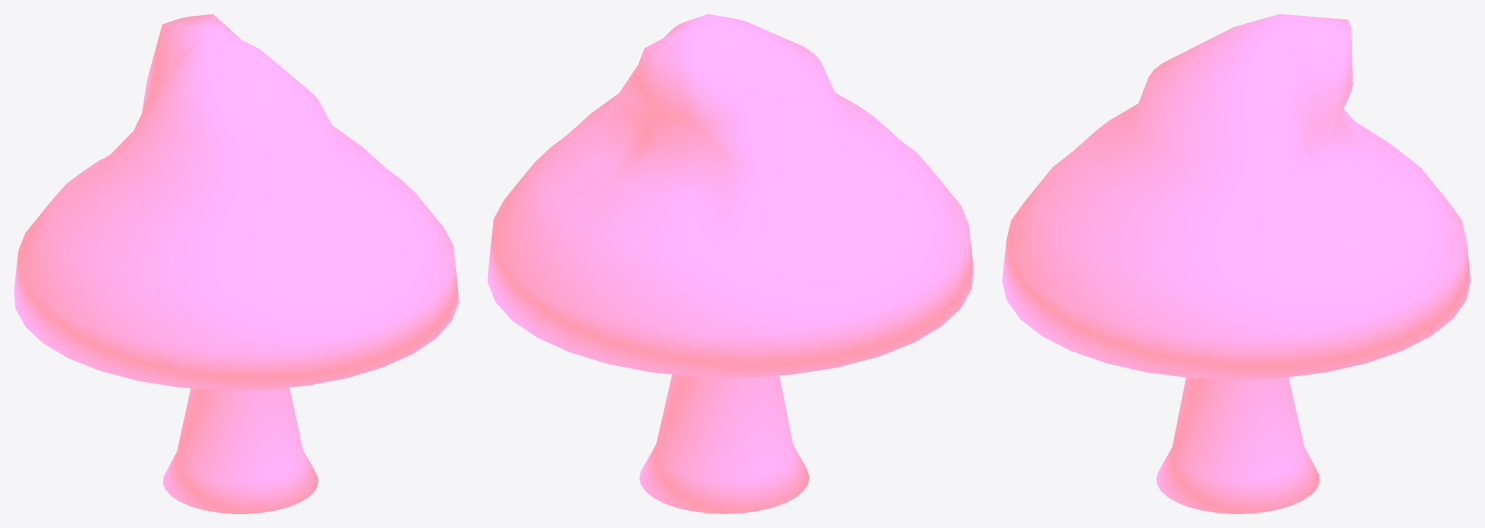
Rendered from cogumelo .fbx.
3 renders of one model, left to right at view 1: azimuth 30°, elevation 25°; view 2: azimuth 150°, elevation 25°; view 3: azimuth 270°, elevation 25°, orthographic. The views are drawn at different scales.
Parts seen in each view (by area): view 1: Cylinder.001; view 2: Cylinder.001; view 3: Cylinder.001.
Boxes of the visible parts, x1,y1,x2,y2 form: Cylinder.001: (14,14,458,513); Cylinder.001: (487,14,973,513); Cylinder.001: (1002,14,1470,513).
Size of the model in its own units: 342 by 373 by 342.
